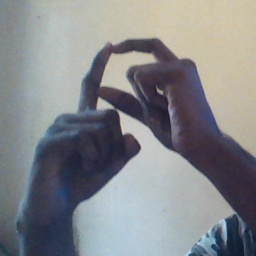D: (65, 35, 193, 156)
